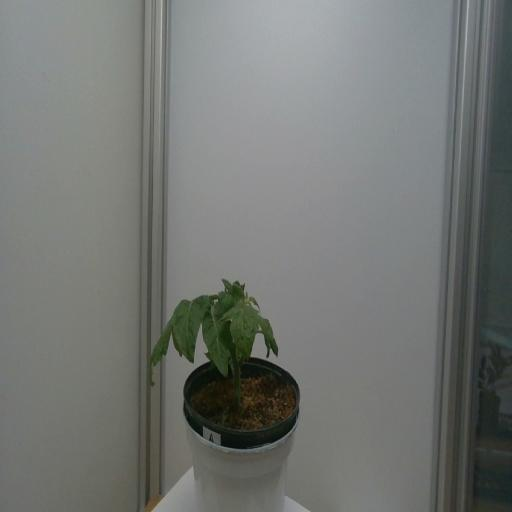Tomato-Leaves-Cupboard-: (146, 288, 172, 400), (177, 293, 207, 368), (205, 309, 227, 393), (227, 310, 257, 360), (260, 312, 288, 365), (216, 288, 234, 305), (251, 290, 267, 308), (220, 272, 234, 290), (234, 283, 244, 299), (244, 286, 249, 298)
